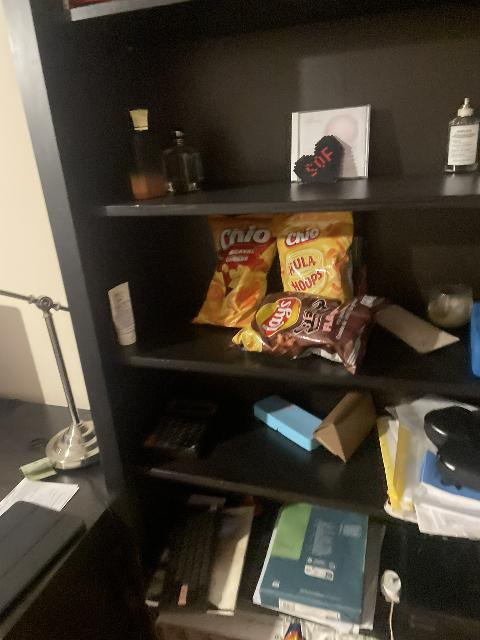Chio Cascaval 125g: (191, 216, 279, 329)
Chio Hula Hoops Cheese 70g: (275, 212, 356, 308)
Lays Beef Grilled Ribs 125g: (233, 290, 393, 368)
